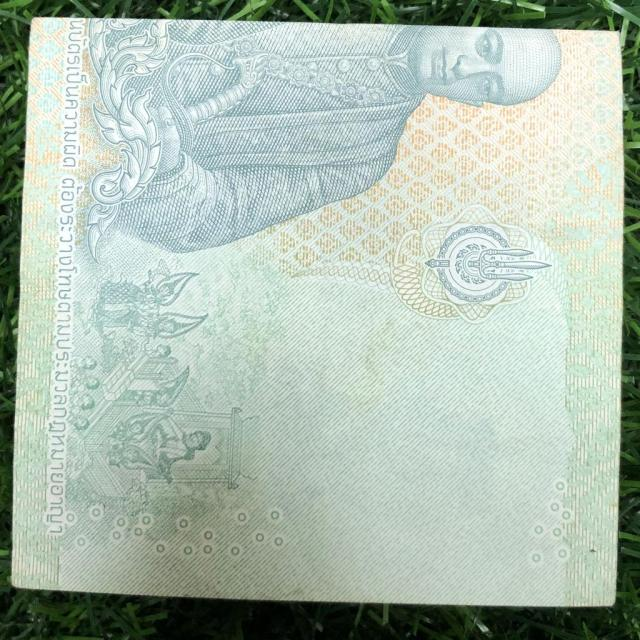THAI20: (12, 19, 621, 606)
